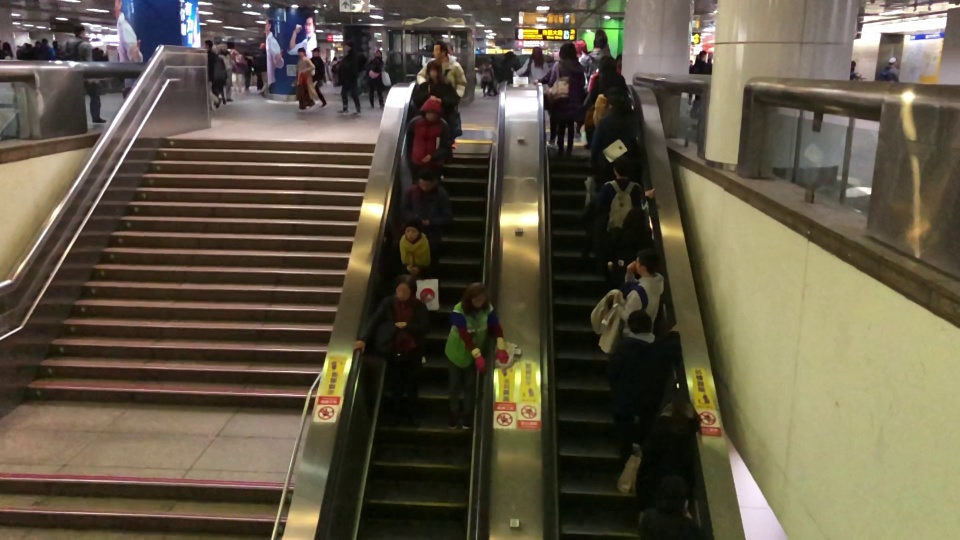person_head: (659, 473, 687, 512), (464, 281, 490, 310), (625, 308, 654, 334), (393, 272, 418, 301), (401, 214, 424, 243), (622, 208, 645, 236), (634, 249, 657, 277), (607, 90, 631, 116), (414, 164, 437, 189), (419, 97, 443, 120), (664, 379, 686, 403), (612, 155, 632, 178), (425, 59, 442, 79), (599, 53, 616, 73), (559, 42, 577, 60), (433, 40, 448, 59), (590, 33, 609, 48), (576, 37, 587, 54), (343, 40, 355, 54), (531, 45, 543, 59), (73, 24, 85, 37), (296, 46, 306, 58), (888, 55, 898, 67), (203, 38, 213, 49), (504, 51, 514, 62), (311, 46, 321, 56), (697, 49, 707, 59), (2, 41, 10, 51), (850, 59, 857, 70), (375, 51, 381, 60), (260, 43, 266, 51)
person_vbox: (351, 272, 431, 430), (608, 307, 681, 466), (443, 280, 510, 432), (634, 379, 700, 518), (389, 214, 439, 365), (415, 41, 467, 148), (593, 154, 659, 235), (590, 90, 640, 187), (60, 24, 108, 124), (614, 249, 665, 337), (402, 163, 453, 250), (404, 96, 453, 184), (549, 42, 586, 158), (639, 472, 695, 539), (607, 207, 653, 288), (583, 53, 632, 125), (415, 59, 459, 115), (335, 39, 361, 117), (203, 38, 227, 110), (295, 46, 316, 112), (689, 48, 709, 117), (580, 31, 609, 78), (517, 44, 548, 83), (365, 50, 385, 109), (310, 45, 327, 109), (498, 49, 520, 83), (253, 43, 267, 96), (879, 55, 900, 82), (849, 59, 862, 82), (2, 40, 14, 60)
